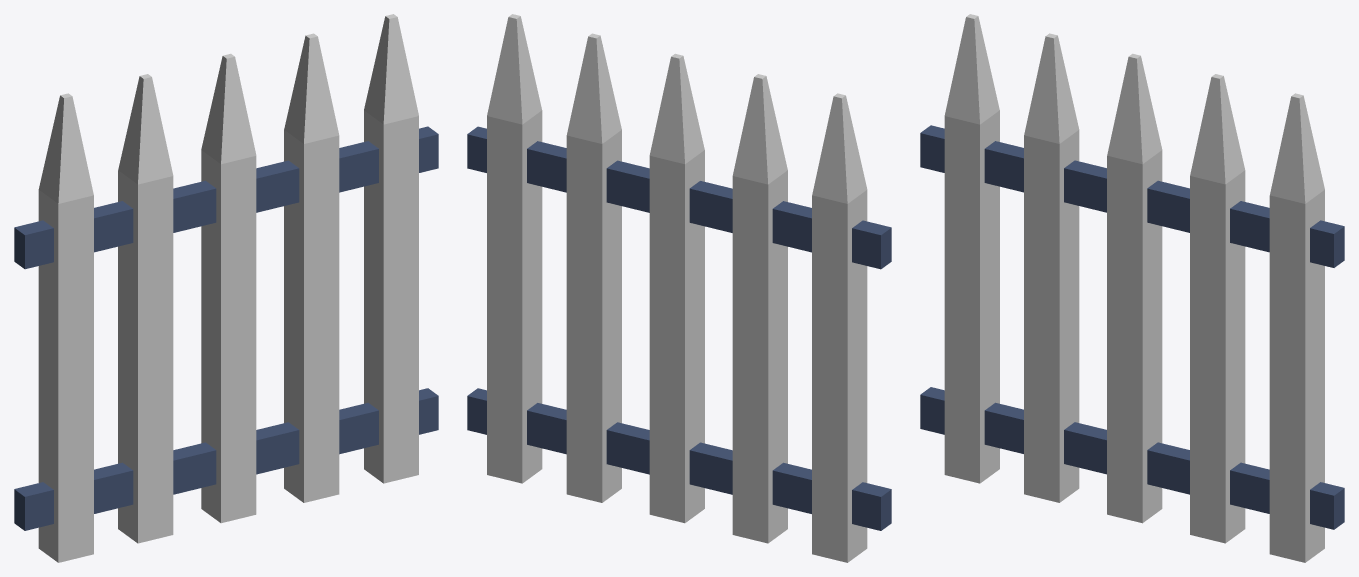
The model's file is WhtFence_1.FBX.
The picture shows the model from 3 angles, left to right: view 1: azimuth 30°, elevation 25°; view 2: azimuth 150°, elevation 25°; view 3: azimuth 330°, elevation 25°; orthographic projection.
Visible parts, largest first — view 1: WhiteFence_1; view 2: WhiteFence_1; view 3: WhiteFence_1.
Part boxes in pixels (x1=…): WhiteFence_1: x1=14, y1=14, x2=438, y2=562; WhiteFence_1: x1=467, y1=14, x2=891, y2=562; WhiteFence_1: x1=920, y1=14, x2=1344, y2=562.
Size of the model in its own units: 15.92 by 16.75 by 1.31.
